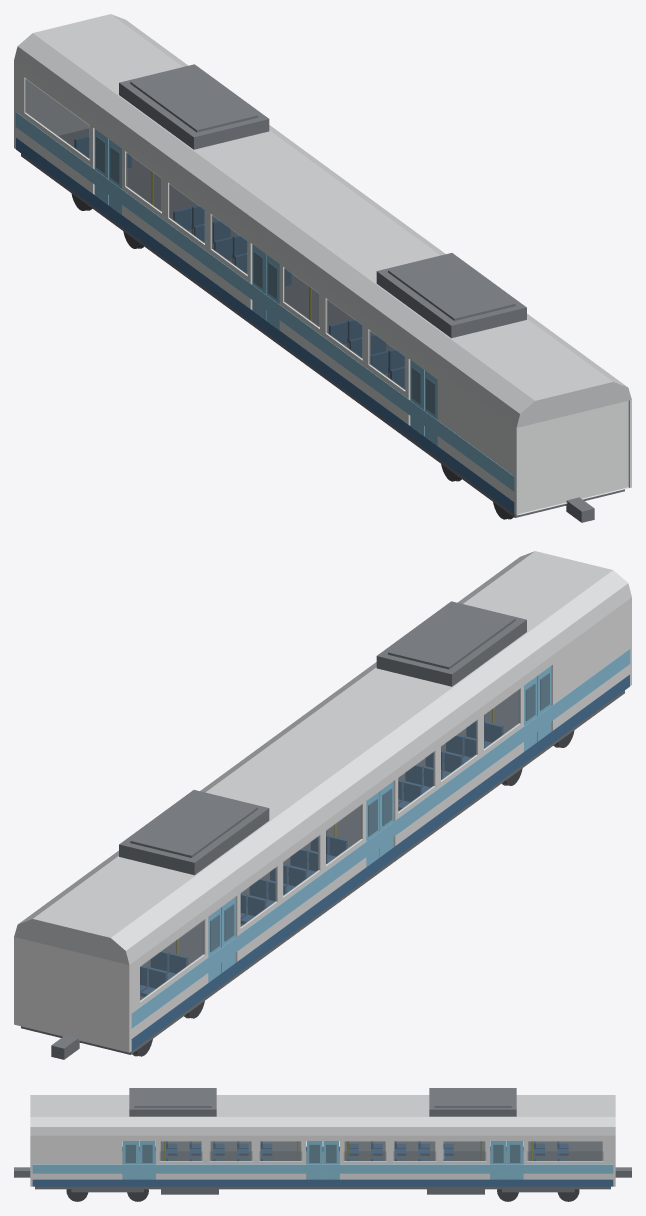
File: csr_roca_coche_remolcado.glb
The picture shows the model from 3 angles, top to bottom: view 1: azimuth 30°, elevation 25°; view 2: azimuth 150°, elevation 25°; view 3: azimuth 270°, elevation 25°; orthographic projection. The views are drawn at different scales.
Visible parts, largest first — view 1: Techo, Carroceria, Equipos_techo, Vidrios, Franja_celeste, Zocalo_azul, Puertas, Interior_asientos, Interior_piso, Bastidor; view 2: Techo, Carroceria, Equipos_techo, Vidrios, Franja_celeste, Interior_asientos, Zocalo_azul, Puertas, Interior_piso, Bastidor; view 3: Techo, Carroceria, Vidrios, Franja_celeste, Equipos_techo, Zocalo_azul, Puertas, Interior_piso, Bastidor, Interior_asientos, Enganches, Bogie_0_bastidor (+6 smaller).
Boxes of the visible parts, bbox=[...] form: Techo: bbox=[14, 14, 631, 427]; Carroceria: bbox=[14, 60, 631, 515]; Equipos_techo: bbox=[119, 64, 526, 338]; Vidrios: bbox=[25, 79, 435, 414]; Franja_celeste: bbox=[15, 112, 514, 491]; Zocalo_azul: bbox=[16, 137, 514, 513]; Puertas: bbox=[94, 129, 437, 445]; Interior_asientos: bbox=[74, 135, 405, 388]; Interior_piso: bbox=[59, 128, 394, 376]; Bastidor: bbox=[21, 153, 624, 517]; Techo: bbox=[14, 551, 631, 964]; Carroceria: bbox=[14, 597, 631, 1052]; Equipos_techo: bbox=[119, 601, 526, 875]; Vidrios: bbox=[140, 673, 549, 1000]; Franja_celeste: bbox=[131, 649, 630, 1028]; Interior_asientos: bbox=[140, 721, 503, 996]; Zocalo_azul: bbox=[131, 674, 629, 1050]; Puertas: bbox=[208, 666, 551, 982]; Interior_piso: bbox=[140, 690, 518, 999]; Bastidor: bbox=[21, 690, 624, 1054]; Techo: bbox=[30, 1095, 615, 1135]; Carroceria: bbox=[30, 1135, 615, 1186]; Vidrios: bbox=[125, 1141, 602, 1162]; Franja_celeste: bbox=[32, 1164, 613, 1173]; Equipos_techo: bbox=[129, 1088, 516, 1116]; Zocalo_azul: bbox=[32, 1146, 613, 1186]; Puertas: bbox=[122, 1141, 523, 1179]; Interior_piso: bbox=[122, 1151, 603, 1179]; Bastidor: bbox=[35, 1186, 610, 1194]; Interior_asientos: bbox=[166, 1141, 568, 1161]; Enganches: bbox=[14, 1167, 631, 1177]; Bogie_0_bastidor: bbox=[71, 1189, 143, 1192].
Bounding box in the file's own units: 3.23 × 4.37 × 25.55.
